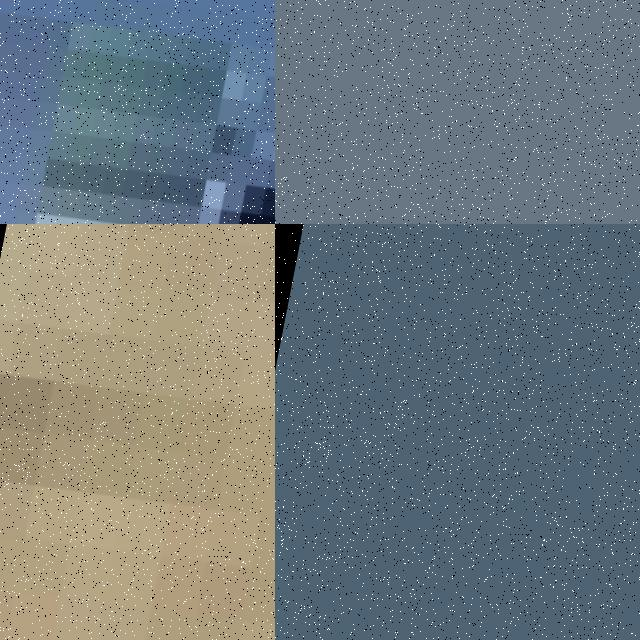drone: (0, 224, 275, 640), (0, 0, 275, 224)
